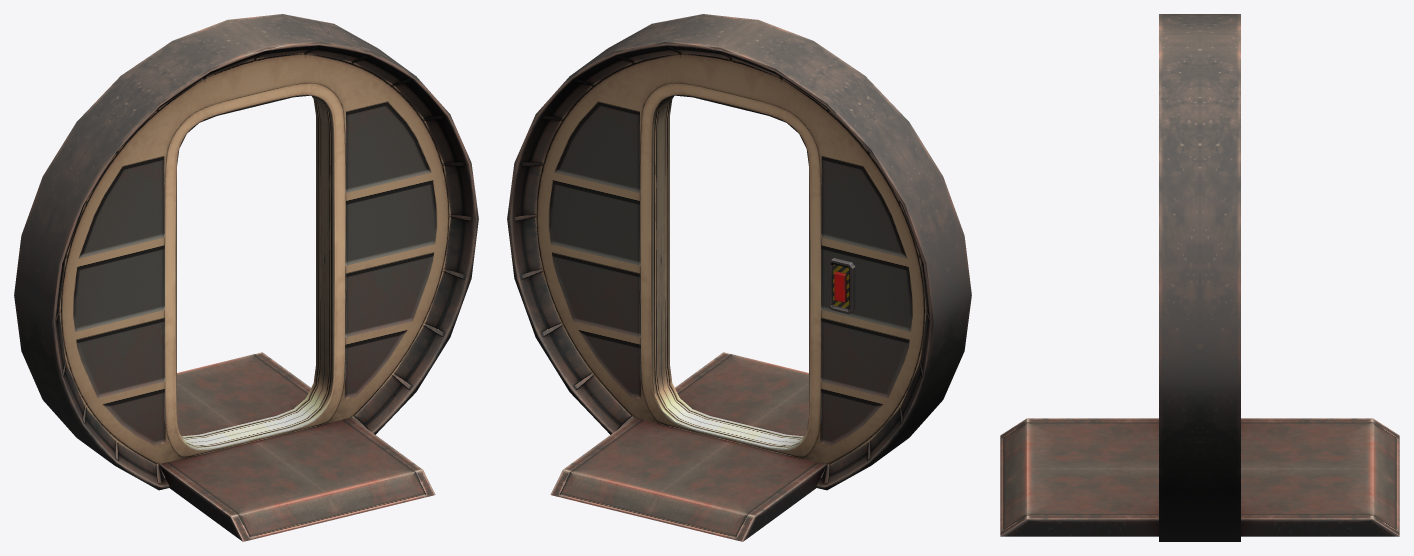
File: doorway_base.dae
3 renders of one model, left to right at view 1: azimuth 30°, elevation 25°; view 2: azimuth 150°, elevation 25°; view 3: azimuth 270°, elevation 25°, orthographic. The views are drawn at different scales.
Parts seen in each view (by area): view 1: Doorway_Base; view 2: Doorway_Base; view 3: Doorway_Base.
Part boxes in pixels (x1,y1,x2,y2): Doorway_Base: (14, 14, 478, 541); Doorway_Base: (507, 14, 971, 541); Doorway_Base: (1000, 14, 1399, 541).
Bounding box in the file's own units: 2794 × 2107 × 2608.
